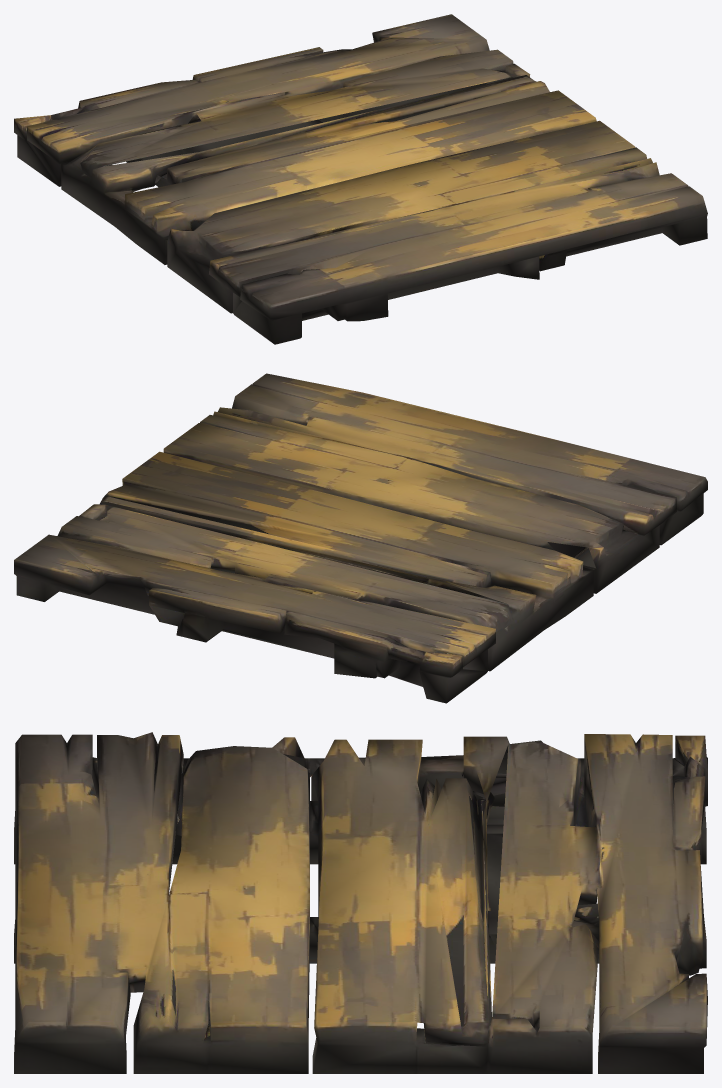
The model's file is tripo_convert_547e366e-94fe-46a3-925c-6748c40db4b8.fbx.
The picture shows the model from 3 angles, top to bottom: view 1: azimuth 30°, elevation 25°; view 2: azimuth 150°, elevation 25°; view 3: azimuth 270°, elevation 25°; orthographic projection. The views are drawn at different scales.
Visible parts, largest first — view 1: tripo_node_547e366e; view 2: tripo_node_547e366e; view 3: tripo_node_547e366e.
Part boxes in pixels (left/top/right/bottom): tripo_node_547e366e: left=14, top=14, right=707, bottom=344; tripo_node_547e366e: left=14, top=373, right=707, bottom=703; tripo_node_547e366e: left=14, top=732, right=707, bottom=1073.
Bounding box in the file's own units: 0.9662 × 0.0899 × 0.9776.
1 material, 1 textured.
